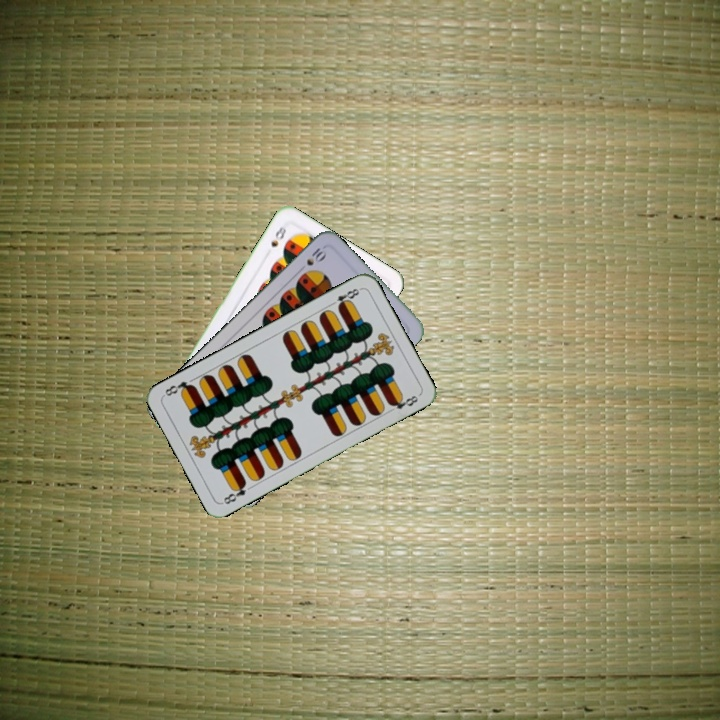E8: (326, 284, 363, 311), (219, 477, 249, 507)
S10: (295, 243, 329, 275)
S8: (267, 222, 289, 250)
